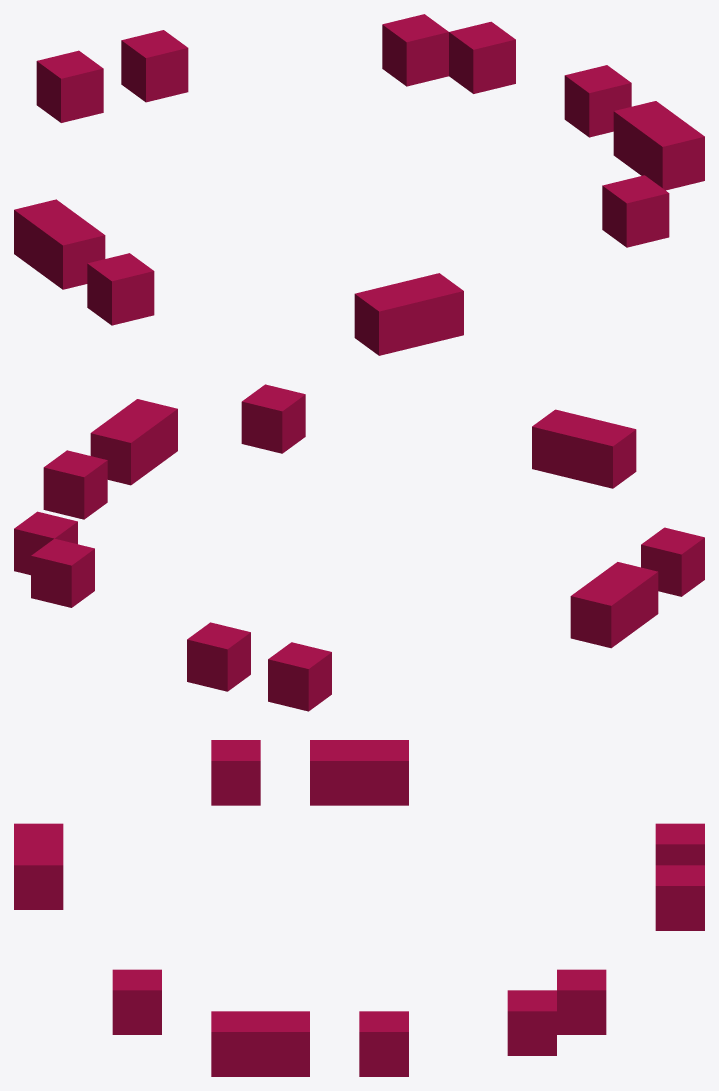
Rendered from luzsaturno-rosa1.obj.
3 renders of one model, top to bottom at view 1: azimuth 30°, elevation 25°; view 2: azimuth 150°, elevation 25°; view 3: azimuth 270°, elevation 25°, orthographic. The views are drawn at different scales.
Size of the model in its own units: 1.4 by 0.1 by 1.4.
1 material, 1 textured.
